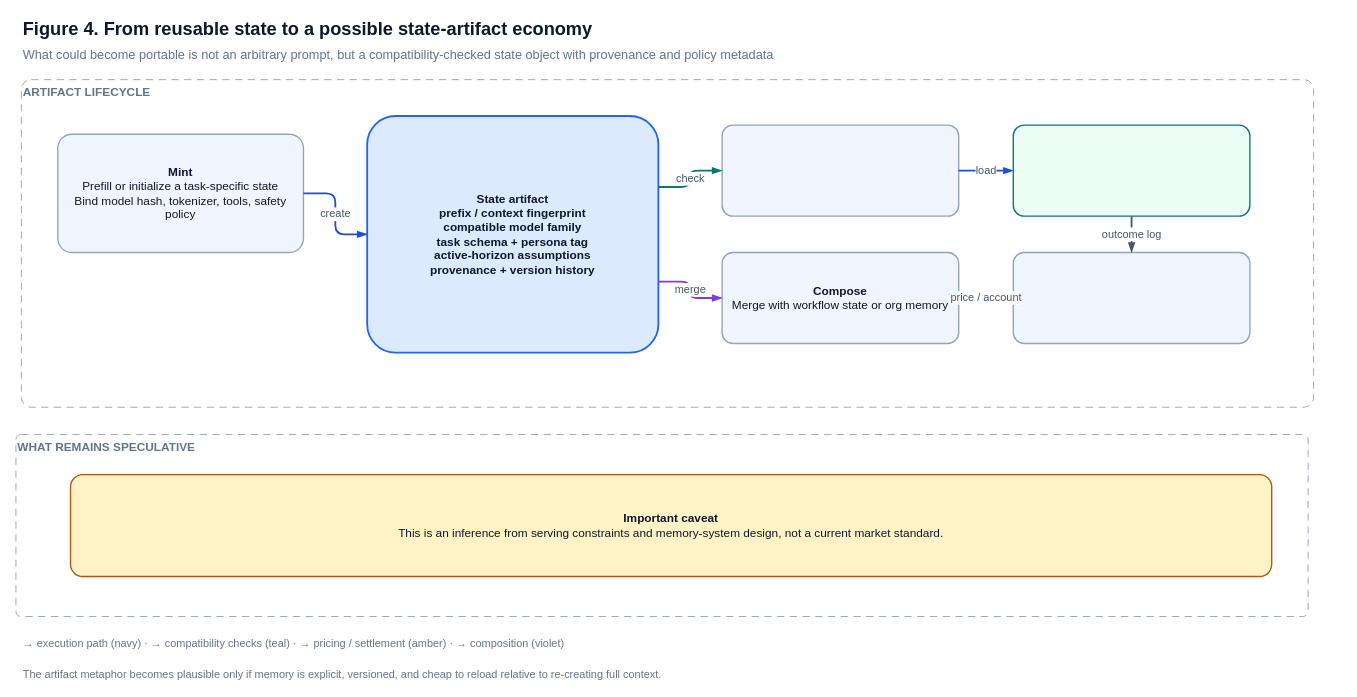
Image size: 1357x697. Some labels were removed from this diagram. Each missing label, with the centre of its shape:
Execute Resume agent loop with tools and retrieval: the point at 1131,170
Settle Price usage, track value, log outcomes: the point at 1131,297
Verify Compatibility, provenance, safety: the point at 840,170
